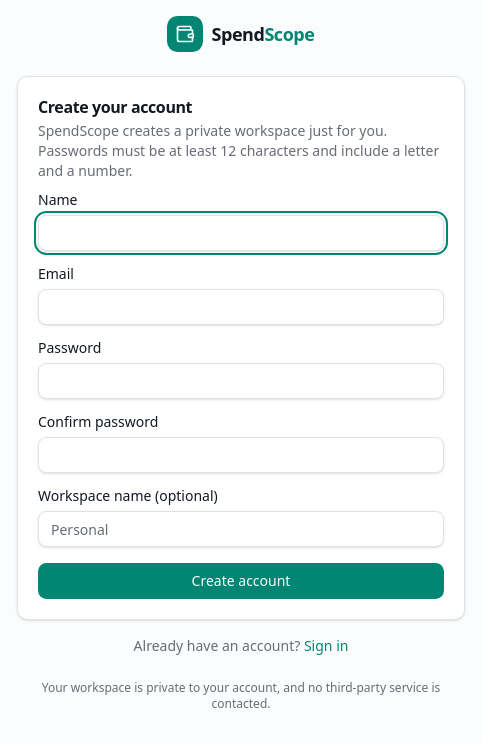
Test: SignUpPage › rejects a mismatched confirmation before submitting
The width and height of the screenshot is (483, 744).
Type "New User" into the field labelled "Name".
click(241, 233); type("New User")  # box [38,215,444,251]
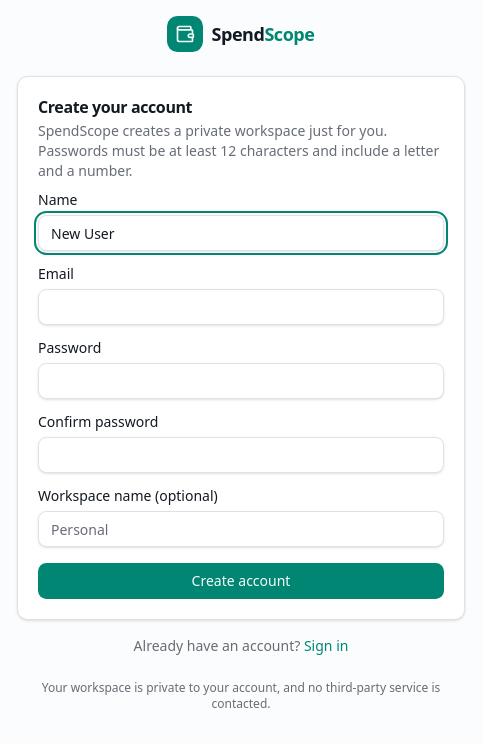
Type "new@example.test" into the field labelled "Email".
click(241, 307); type("new@example.test")  # box [38,289,444,325]
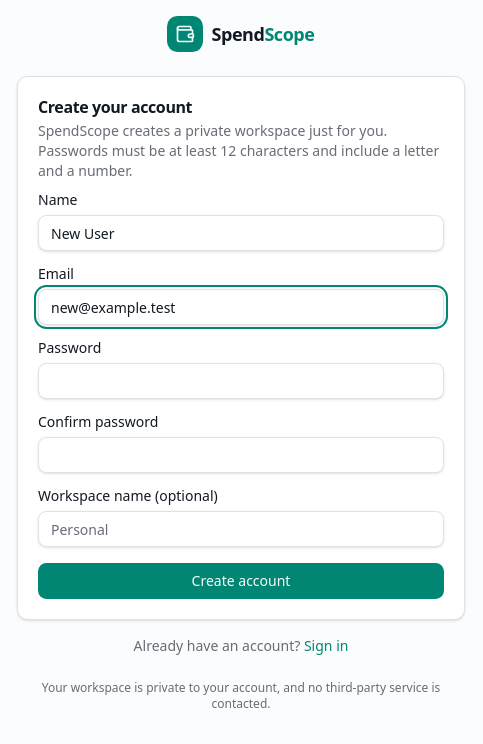
Type "a-strong-passw0rd" into the password field labelled "Password".
click(241, 381); type("a-strong-passw0rd")  # box [38,363,444,399]
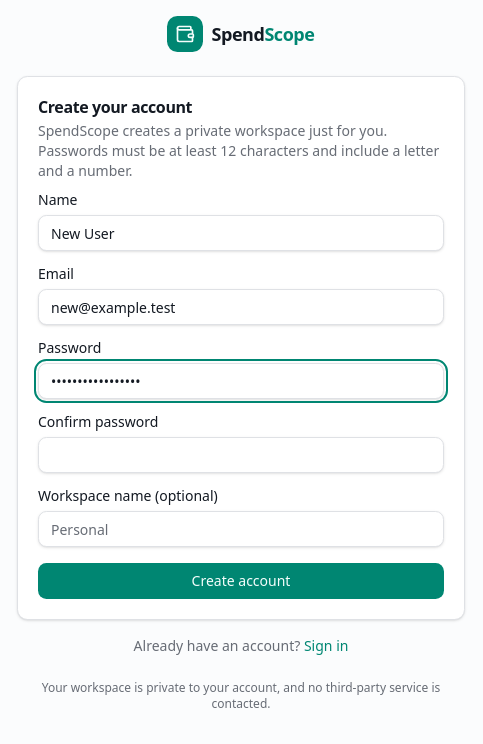
Type "different-passw0rd" into the password field labelled "Confirm password".
click(241, 455); type("different-passw0rd")  # box [38,437,444,473]
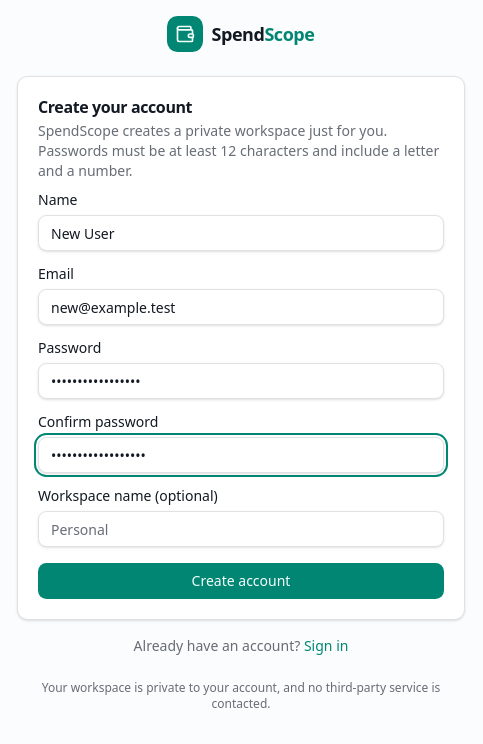
Click the button "Create account".
click(241, 581)  # box [38,563,444,599]
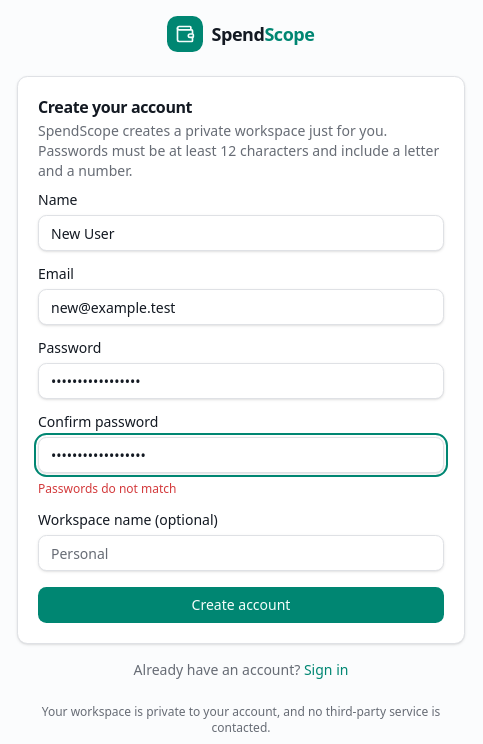
Check: the text "Passwords do not match" is shown, box [38,480,176,497]
